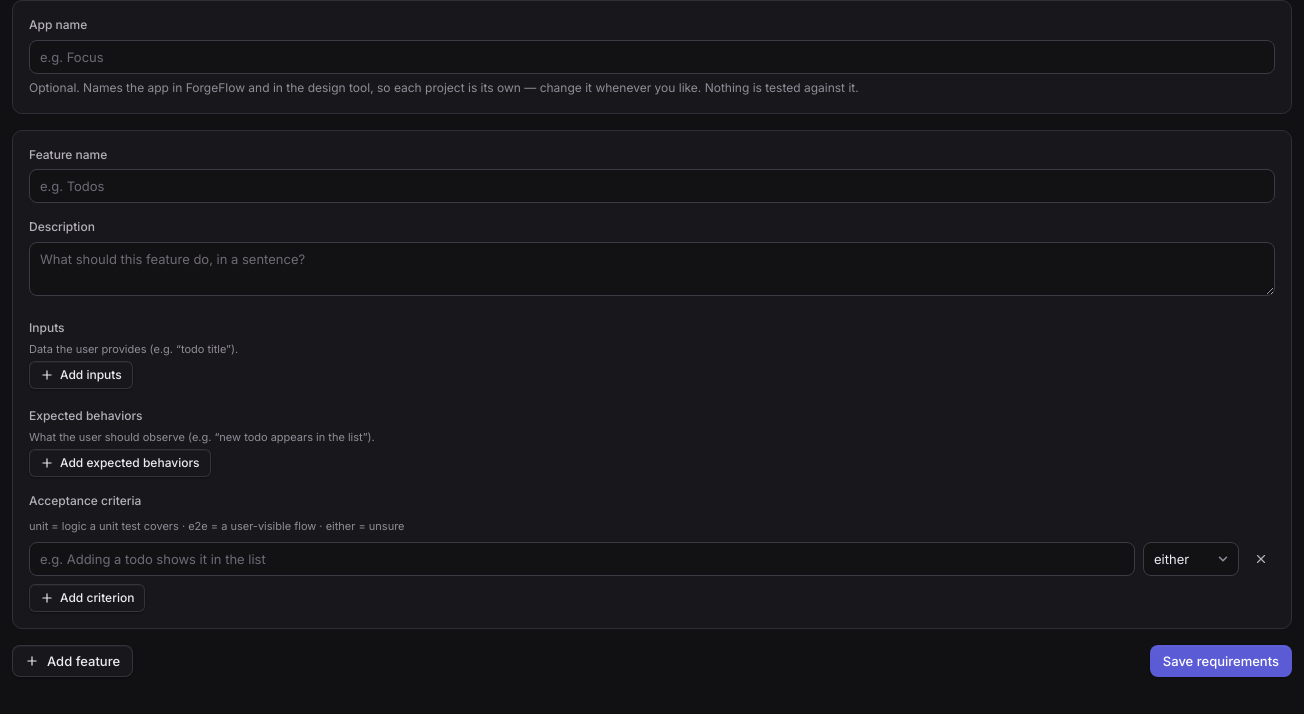
Test case: RequirementsForm › blocks save and shows an inline error for a blank criterion
This screenshot has width=1304, height=714.
Type "Todos" into the field with test id "feature-name-0" at (652, 186), box x1=29 y1=169 x2=1275 y2=203
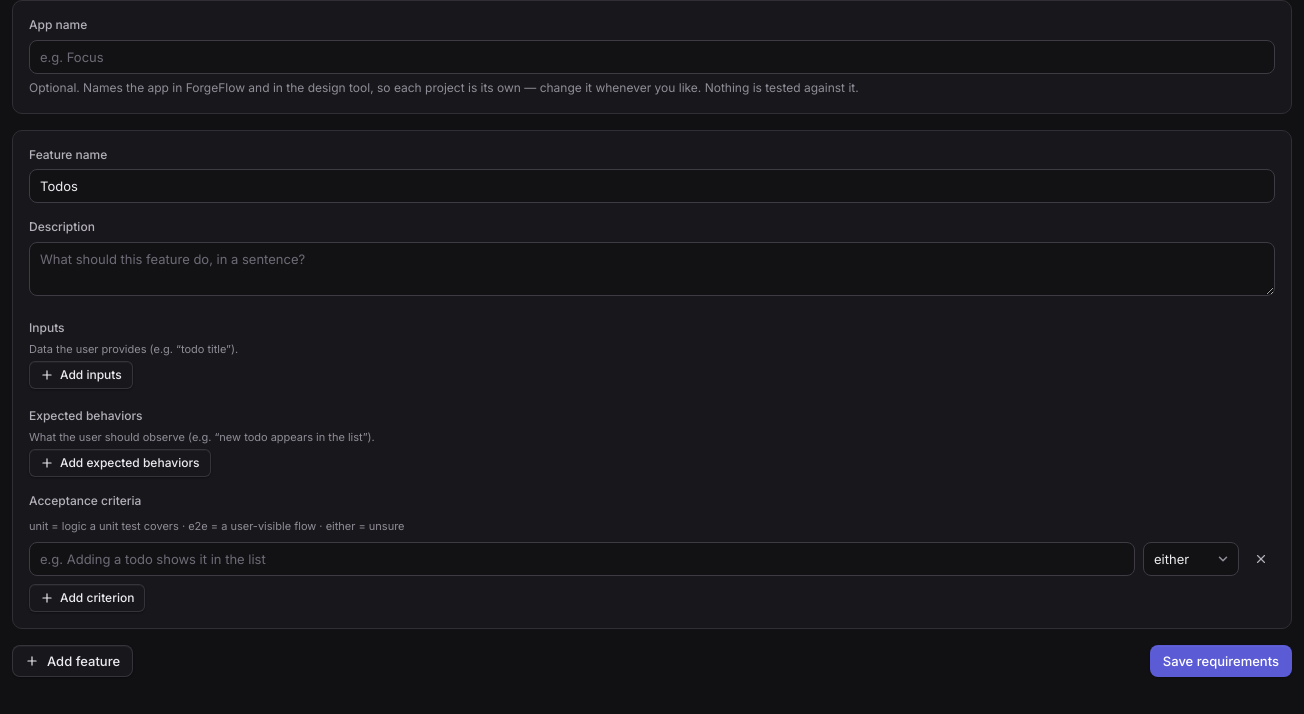
Leave criterion text blank
Click the button with test id "requirements-save" at (1221, 661), box x1=1150 y1=645 x2=1292 y2=677
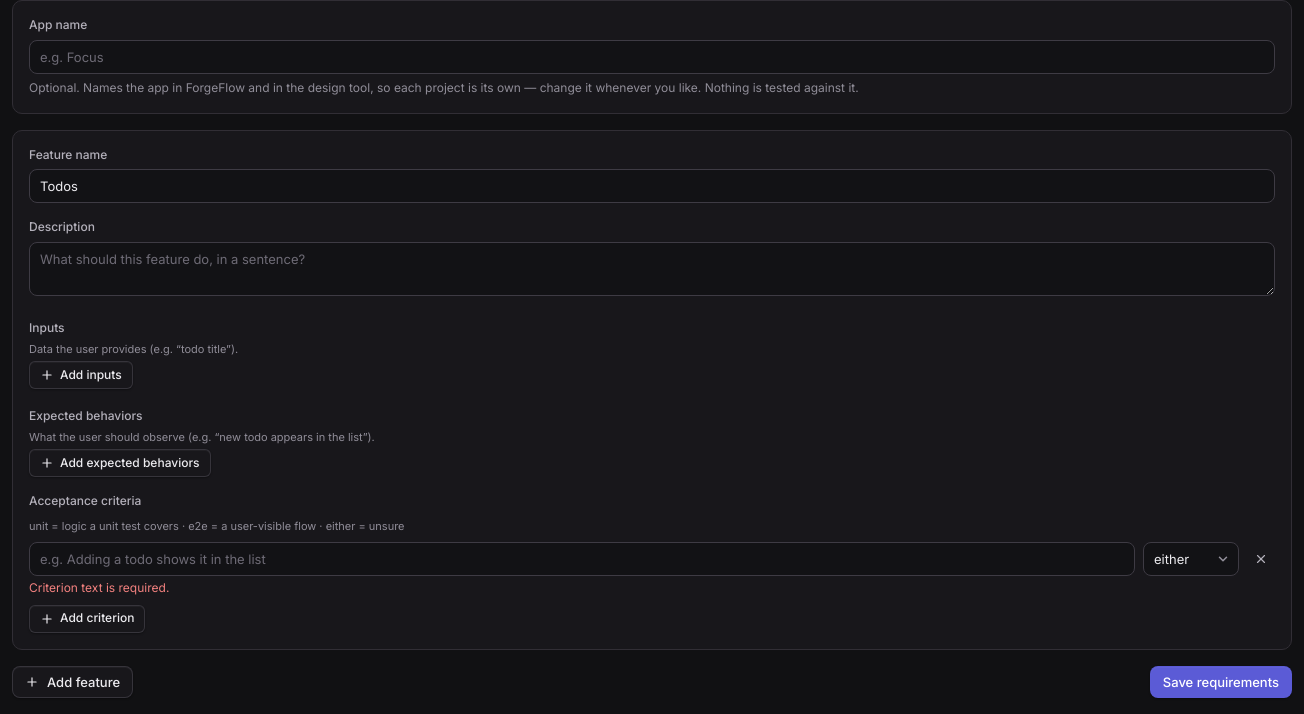
Expected: the text "Criterion text is required." is shown, x1=29 y1=580 x2=169 y2=595
